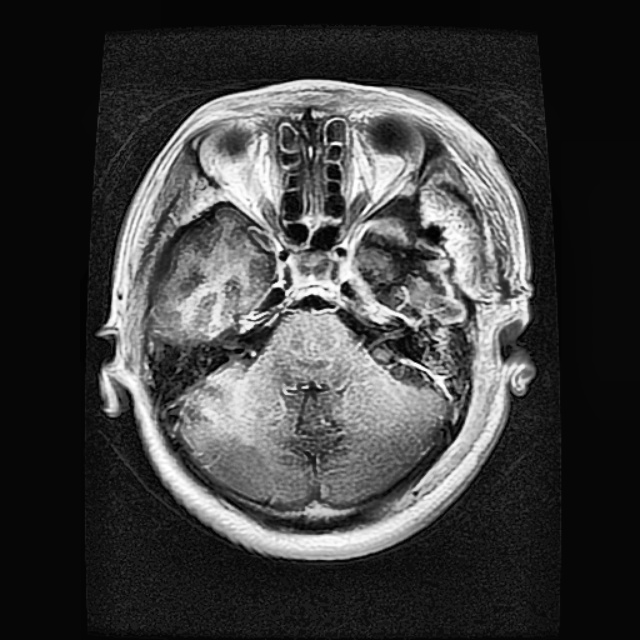Pituitary: (360, 198, 468, 324)
